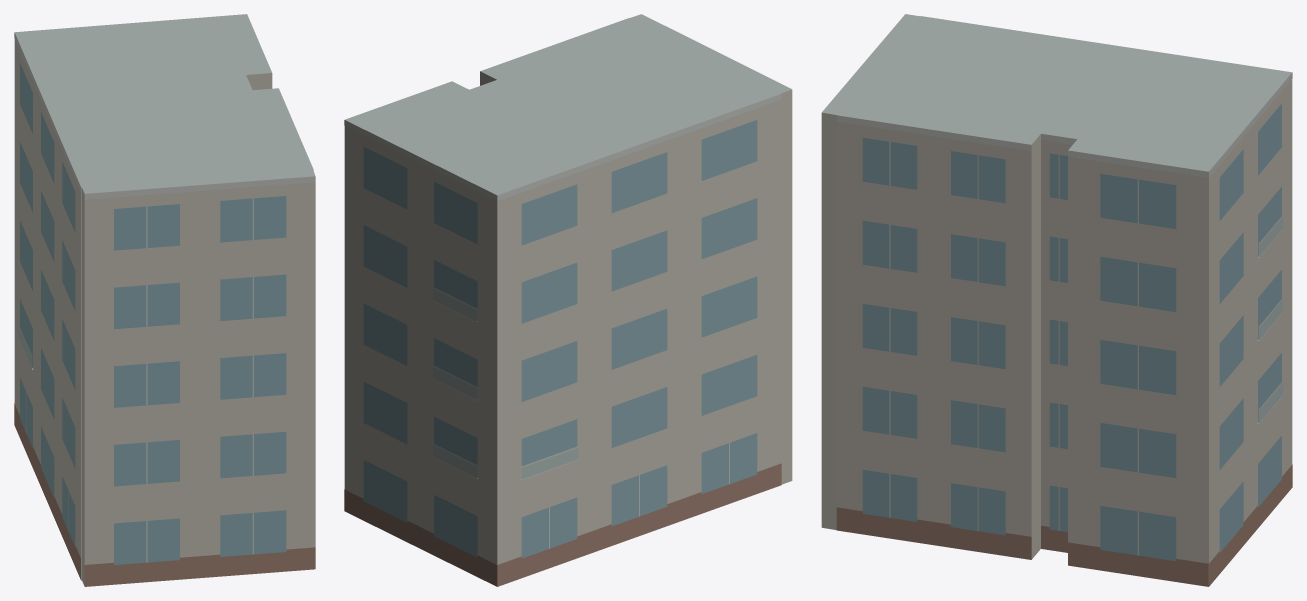
File: survey-upis-32850280.glb
The picture shows the model from 3 angles, left to right: view 1: azimuth 30°, elevation 25°; view 2: azimuth 150°, elevation 25°; view 3: azimuth 270°, elevation 25°; orthographic projection. The views are drawn at different scales.
Parts seen in each view (by area): view 1: survey-upis-32850280.tmp; view 2: survey-upis-32850280.tmp; view 3: survey-upis-32850280.tmp.
Boxes of the visible parts, x1,y1,x2,y2 form: survey-upis-32850280.tmp: (14,14,315,586); survey-upis-32850280.tmp: (344,14,792,586); survey-upis-32850280.tmp: (821,14,1292,586).
Bounding box in the file's own units: 13.29 × 16.3 × 16.76.
